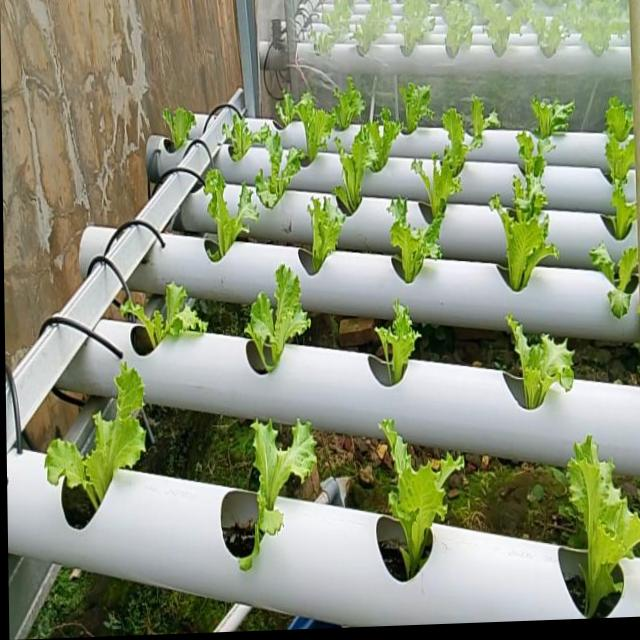Baby: (47, 361, 147, 508), (382, 418, 466, 577), (568, 436, 640, 617), (240, 419, 317, 569), (246, 262, 312, 369), (412, 129, 482, 223), (508, 313, 574, 408), (118, 277, 208, 344), (333, 121, 390, 216), (204, 167, 259, 260), (390, 75, 448, 159), (499, 208, 554, 291), (276, 90, 335, 163), (255, 126, 305, 209), (590, 242, 639, 318), (377, 298, 421, 381), (508, 150, 549, 238), (391, 198, 430, 282), (308, 196, 346, 273), (222, 108, 270, 161), (606, 105, 635, 185), (462, 95, 502, 151), (332, 76, 365, 131), (532, 97, 575, 139), (162, 104, 197, 145)
